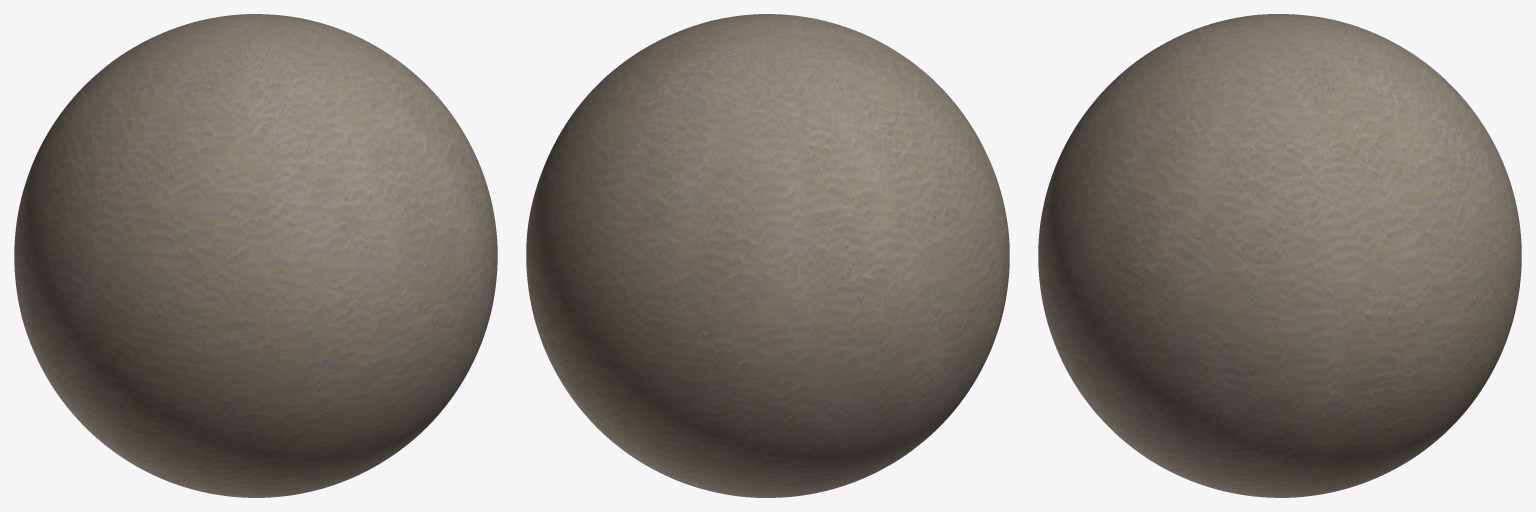
File: aerial_beach_01_1k-transformed.glb
The picture shows the model from 3 angles, left to right: view 1: azimuth 30°, elevation 25°; view 2: azimuth 150°, elevation 25°; view 3: azimuth 270°, elevation 25°; orthographic projection.
Visible parts, largest first — view 1: sphere_gltf; view 2: sphere_gltf; view 3: sphere_gltf.
Boxes of the visible parts, x1,y1,x2,y2 form: sphere_gltf: (14, 14, 497, 497); sphere_gltf: (526, 14, 1009, 497); sphere_gltf: (1038, 14, 1521, 497).
Size of the model in its own units: 29.98 by 30.02 by 29.98.
1 material, 1 textured.
